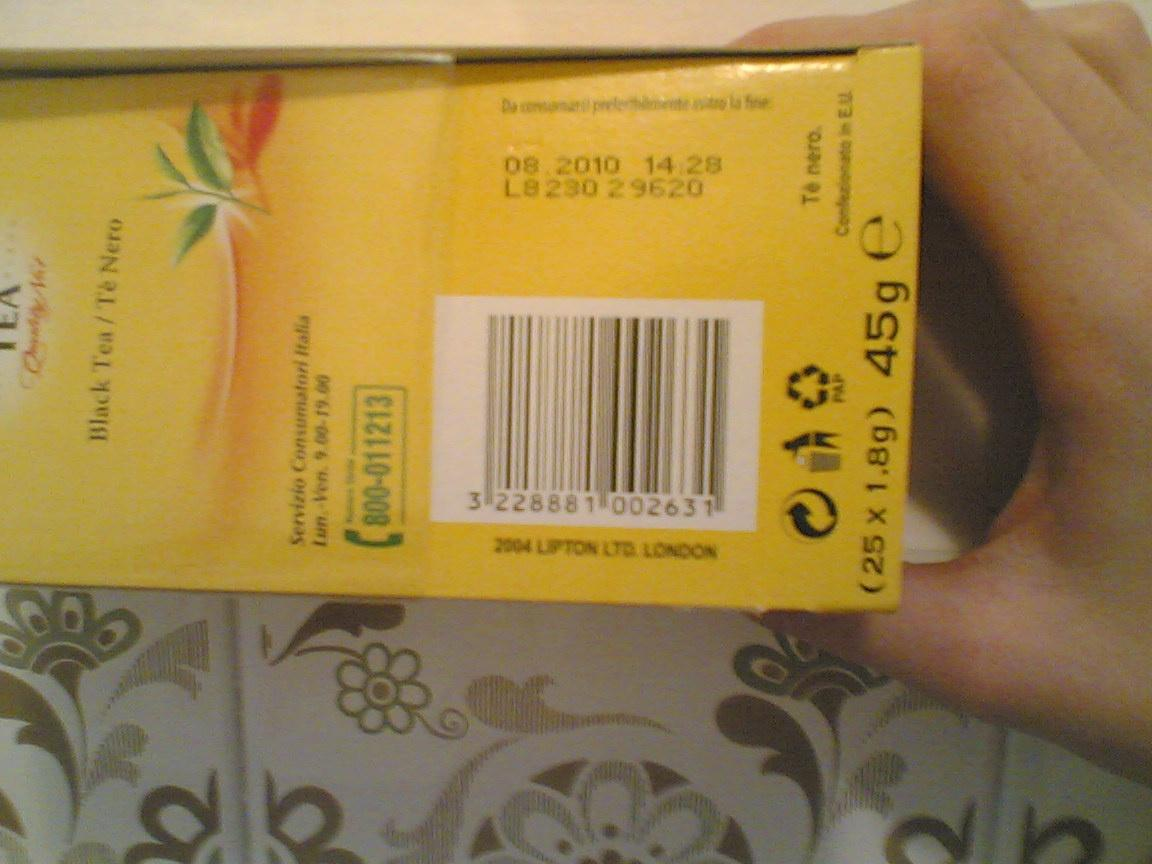Barcode: (432, 306, 762, 533)
